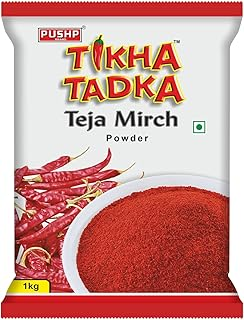Chilli Powder: (2, 2, 244, 318)
